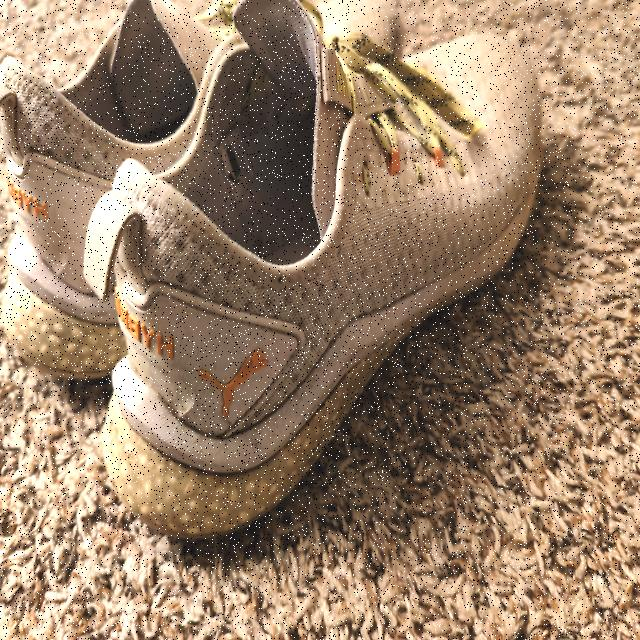white shoes: (2, 41, 534, 536)
